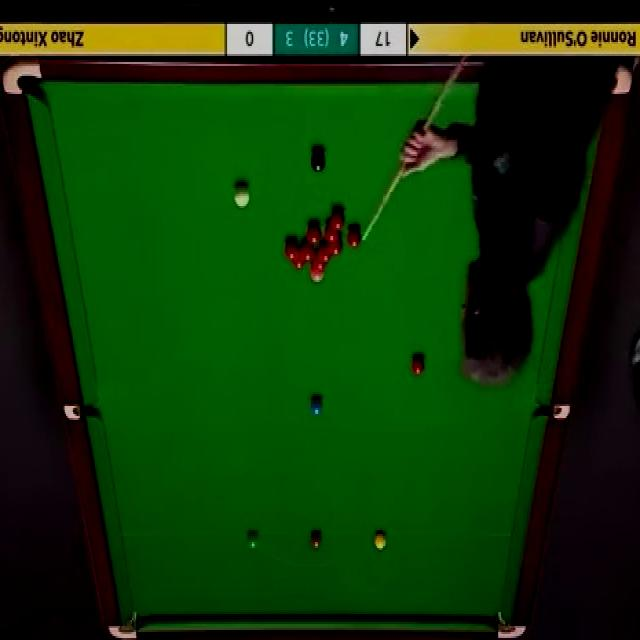pocket: (2, 57, 42, 96), (607, 61, 633, 99), (496, 610, 528, 640), (107, 608, 138, 638), (536, 400, 570, 419), (64, 399, 98, 418)
